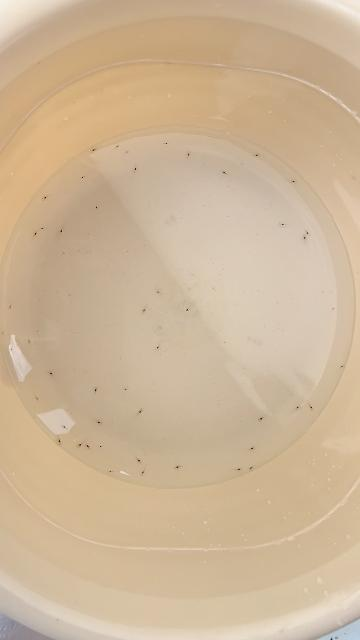benur: (133, 164, 140, 172), (139, 309, 146, 316), (115, 142, 121, 150), (125, 148, 131, 154), (164, 141, 170, 147), (220, 168, 226, 174), (292, 178, 297, 185), (278, 222, 285, 227), (302, 233, 307, 240), (250, 445, 257, 450), (89, 149, 96, 154), (187, 151, 193, 156), (256, 152, 261, 158), (296, 404, 302, 409), (257, 417, 263, 422), (238, 466, 243, 472), (107, 468, 112, 474), (76, 443, 82, 448), (97, 421, 103, 426), (139, 408, 145, 413), (58, 440, 63, 446), (58, 230, 63, 236), (41, 196, 46, 202), (93, 203, 98, 209), (34, 229, 38, 236), (155, 345, 159, 352), (306, 232, 311, 237), (84, 443, 89, 448), (94, 386, 99, 391), (47, 370, 52, 375), (184, 308, 189, 313), (154, 290, 159, 295), (310, 406, 314, 412), (173, 466, 179, 470), (137, 460, 143, 464), (341, 364, 345, 369), (140, 471, 144, 476), (61, 424, 66, 428), (27, 339, 31, 344), (8, 305, 12, 310), (38, 227, 43, 231), (78, 176, 83, 180), (332, 306, 336, 310), (9, 348, 13, 352), (1, 332, 5, 336), (35, 398, 40, 401), (249, 467, 252, 471), (123, 388, 126, 392), (99, 444, 101, 448)
